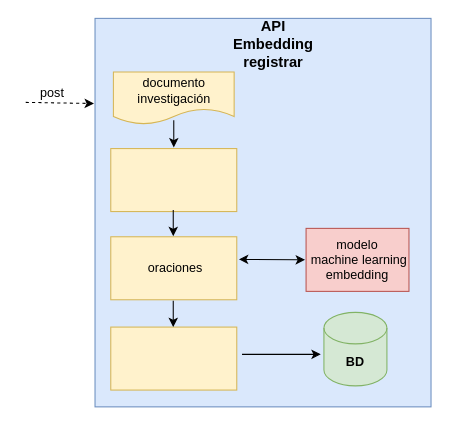
Some shapes in this 449 by 425 pixel diagram are drawn without their labels. Here are the shapes that lost their labels. From the top down, the centre of each, then its label:
At pixel 173 180: "split texto en oraciones".
At pixel 173 358: "insertar embedding en base de dato".
